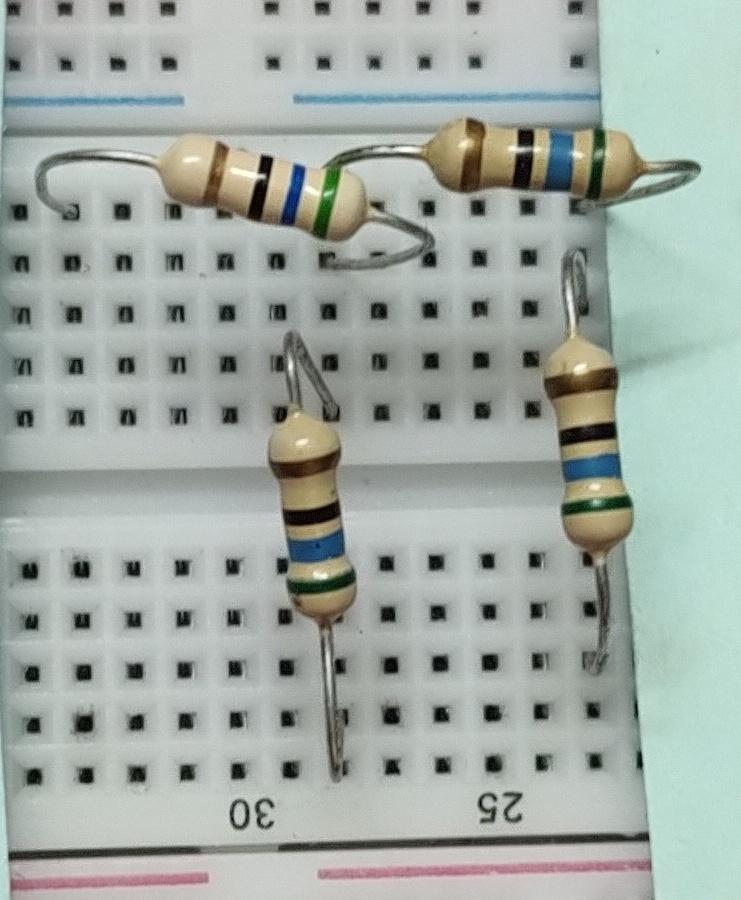resistor: (148, 117, 372, 268), (255, 408, 370, 638), (420, 108, 660, 210), (542, 330, 640, 560)
